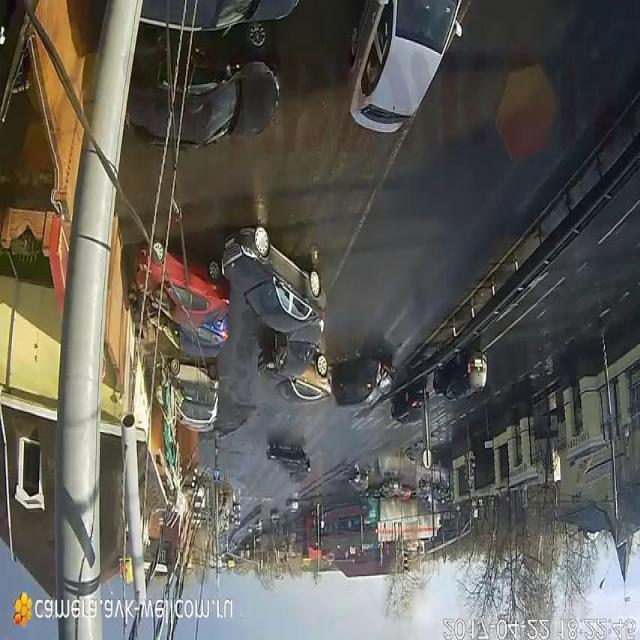vehicle: (148, 210, 328, 372)
